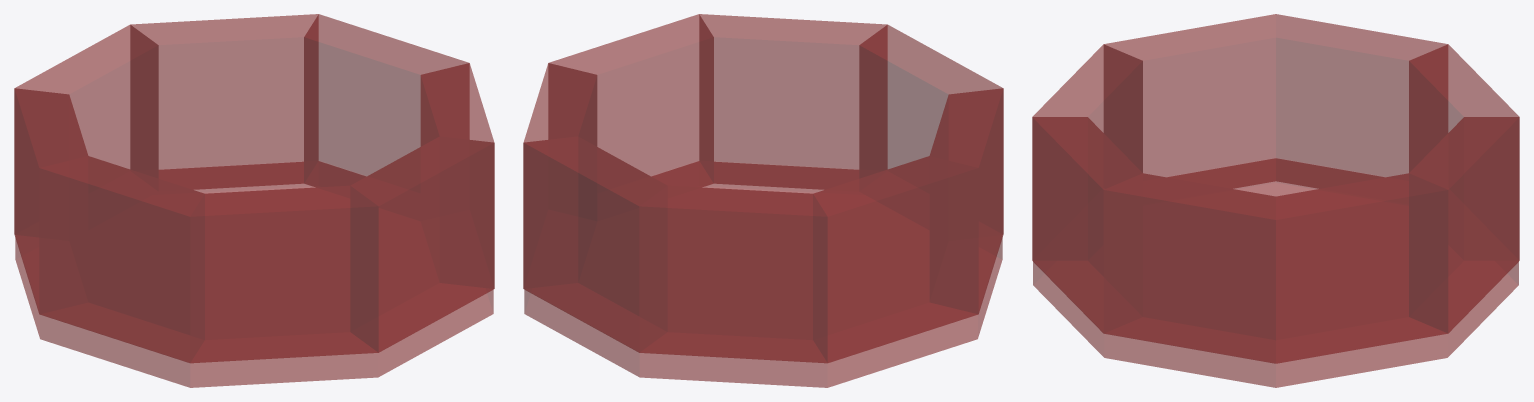
File: SM_Env_Well_01_Collision.fbx
3 views of the same model, side by side, from view 1: azimuth 30°, elevation 25°; view 2: azimuth 150°, elevation 25°; view 3: azimuth 270°, elevation 25° (orthographic).
Parts seen in each view (by area): view 1: SM_Env_Well_01_Collision; view 2: SM_Env_Well_01_Collision; view 3: SM_Env_Well_01_Collision.
Part boxes in pixels (x1,y1,x2,y2): SM_Env_Well_01_Collision: (14, 14, 494, 387); SM_Env_Well_01_Collision: (523, 14, 1003, 387); SM_Env_Well_01_Collision: (1032, 14, 1519, 387).
Size of the model in its own units: 169 by 64.51 by 169.
